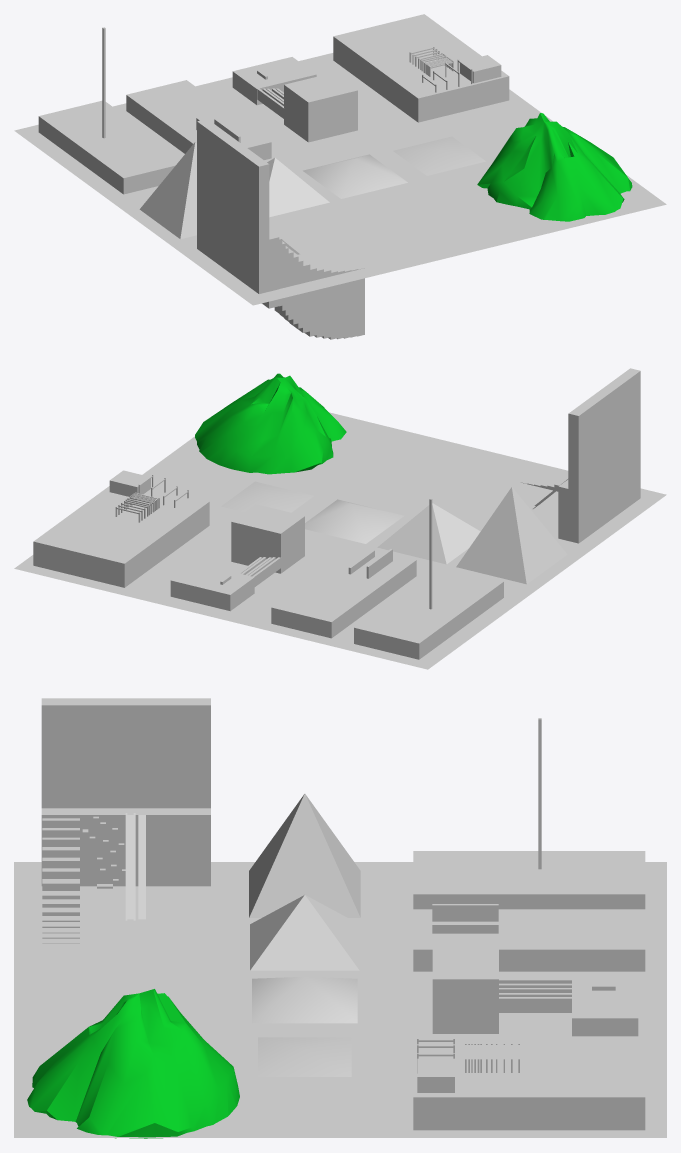
Rendered from ground.fbx.
3 views of the same model, one above another, from view 1: azimuth 30°, elevation 25°; view 2: azimuth 150°, elevation 25°; view 3: azimuth 270°, elevation 25° (orthographic). The views are drawn at different scales.
Visible parts, largest first — view 1: 平面, 球体, 立方体_4_3, 立方体_25, 立方体_3_4, 立方体_1_3, 立方体_3_3, 角锥, 角锥_2, 角锥_3, 立方体_2_4, 角锥_1 (+10 smaller); view 2: 平面, 立方体_4_3, 球体, 立方体_25, 立方体_3_4, 立方体_1_3, 角锥, 立方体_3_3, 角锥_1, 立方体_2_4, 角锥_2, 角锥_3 (+2 smaller); view 3: 平面, 球体, 立方体_4_3, 立方体_25, 立方体_3_4, 立方体_1_3, 立方体_5_2, 角锥, 角锥_1, 立方体_3_3, 角锥_2, 立方体_2_4 (+7 smaller).
Part boxes in pixels (x1,y1,x2,y2): 平面: (14, 53, 666, 305); 球体: (477, 113, 632, 221); 立方体_4_3: (333, 14, 509, 122); 立方体_25: (197, 119, 269, 293); 立方体_3_4: (38, 100, 181, 194); 立方体_1_3: (126, 80, 271, 159); 立方体_3_3: (284, 72, 357, 142); 角锥: (139, 142, 196, 239); 角锥_2: (303, 154, 407, 198); 角锥_3: (393, 136, 485, 175); 立方体_2_4: (232, 57, 316, 105); 角锥_1: (267, 158, 329, 217); 平面: (14, 412, 666, 669); 立方体_4_3: (33, 486, 209, 587); 球体: (195, 373, 346, 474); 立方体_25: (568, 368, 640, 543); 立方体_3_4: (354, 565, 503, 659); 立方体_1_3: (271, 545, 416, 638); 角锥: (456, 487, 567, 584); 立方体_3_3: (231, 504, 304, 573); 角锥_1: (377, 503, 480, 564); 立方体_2_4: (170, 562, 254, 611); 角锥_2: (305, 499, 404, 543); 角锥_3: (221, 481, 313, 512); 平面: (14, 862, 666, 1137); 球体: (27, 989, 239, 1138); 立方体_4_3: (413, 1036, 645, 1130); 立方体_25: (41, 698, 210, 808); 立方体_3_4: (413, 851, 645, 909); 立方体_1_3: (413, 909, 645, 971); 立方体_5_2: (41, 808, 210, 886); 角锥: (249, 793, 360, 917); 角锥_1: (250, 895, 359, 970); 立方体_3_3: (432, 946, 498, 1033); 角锥_2: (252, 976, 357, 1023); 立方体_2_4: (572, 978, 638, 1036).
Size of the model in its own units: 400 by 179 by 400.
